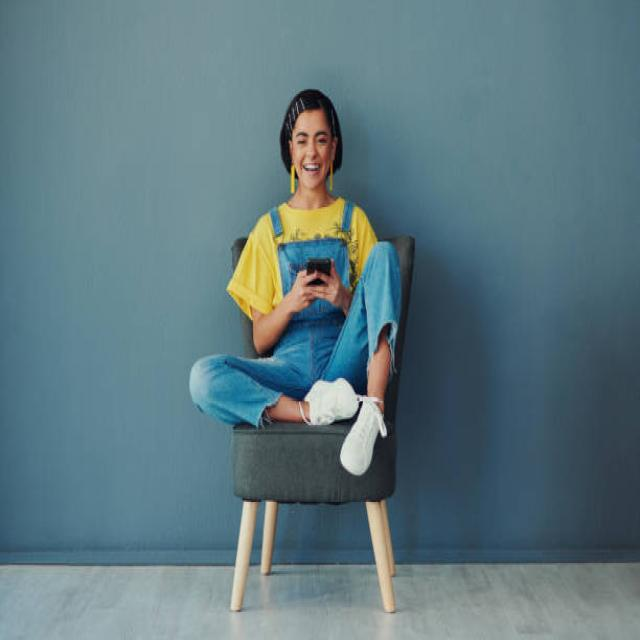Real human 2: (184, 67, 413, 479)
